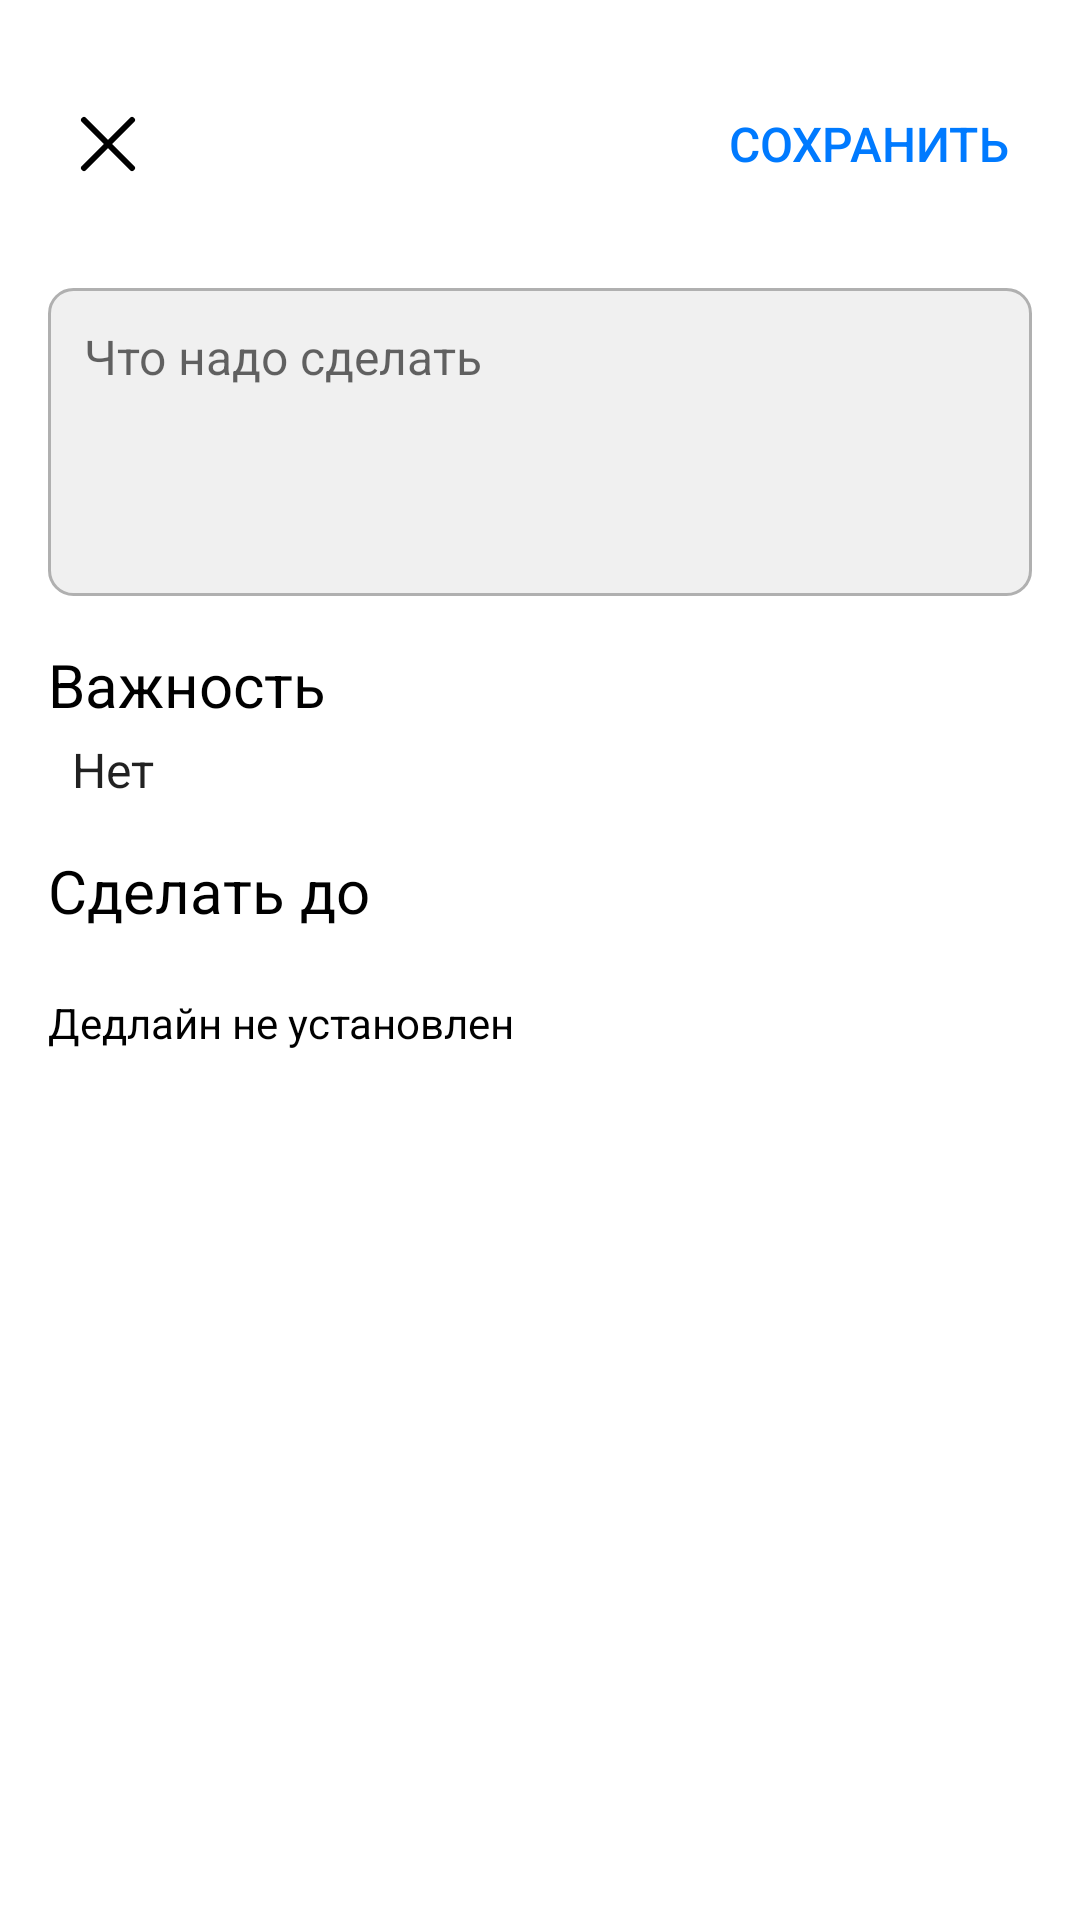

Locate icon controls on the screen. Image size 1080*1920, boxes as Rect(x1, y1, x2, y2).
Отмена: Rect(81, 117, 135, 171)
